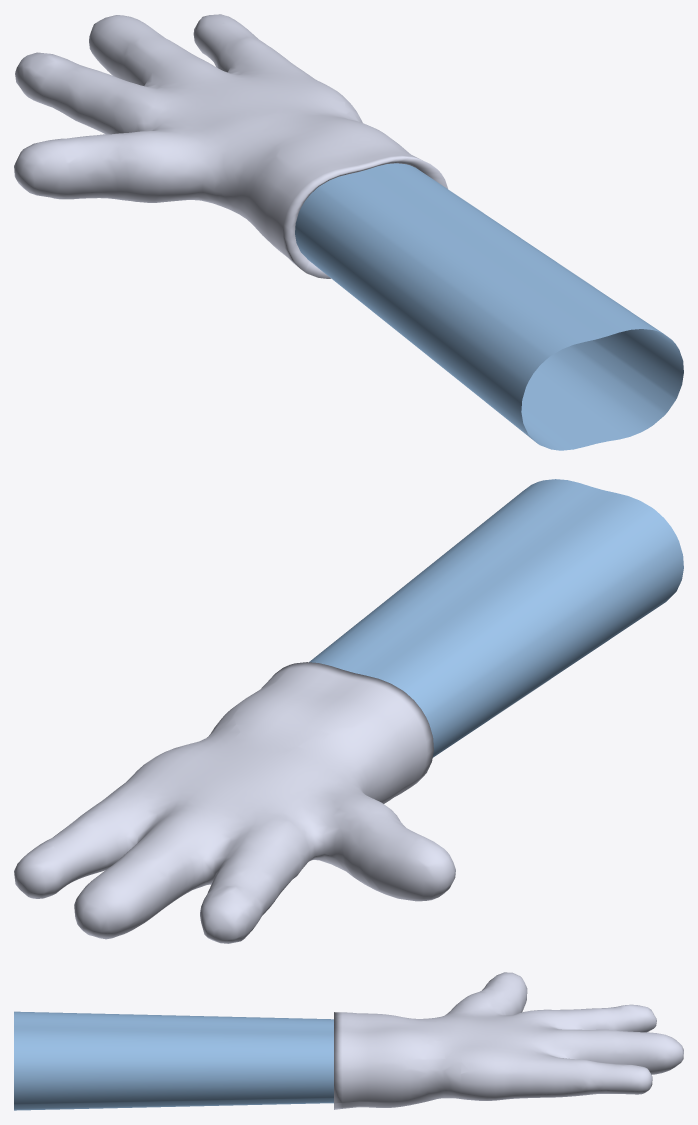
File: hand.fbx
3 views of the same model, one above another, from view 1: azimuth 30°, elevation 25°; view 2: azimuth 150°, elevation 25°; view 3: azimuth 270°, elevation 25° (orthographic). The views are drawn at different scales.
Parts seen in each view (by area): view 1: Hand; view 2: Hand; view 3: Hand.
Boxes of the visible parts, left/top/right/bottom form: Hand: left=14, top=14, right=683, bottom=450; Hand: left=14, top=479, right=683, bottom=943; Hand: left=14, top=972, right=683, bottom=1110.
Bounding box in the file's own units: 313 × 845 × 102.
